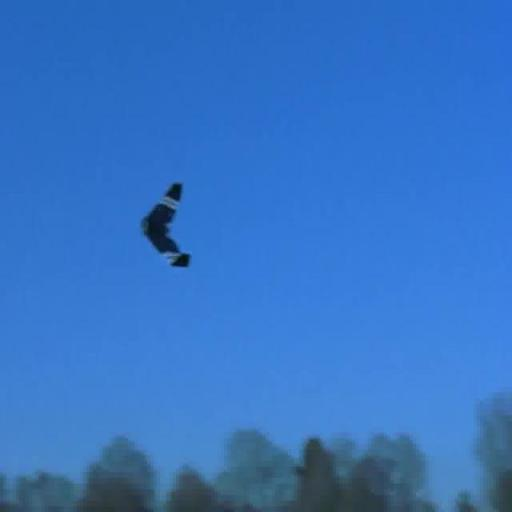uav: (135, 176, 195, 282)
